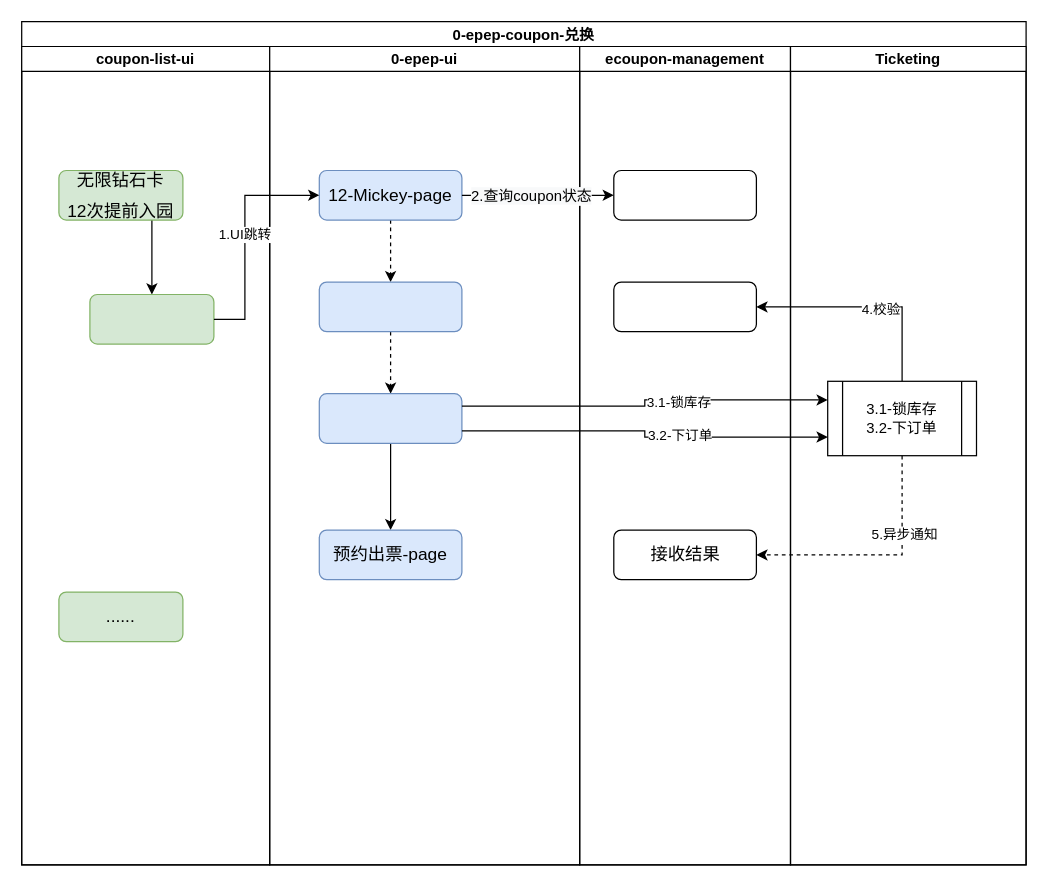
This 1048x887 diagram has some shape labels left out. The shapes that lost their labels are listed below. From the top down, each one's centre as x and y in pixels, then its label:
At pixel 684 194: "coupon-status".
At pixel 151 318: "优惠券详情 立即使用".
At pixel 390 306: "乐园早享福利 下一步".
At pixel 684 306: "coupon校验".
At pixel 390 417: "输入预约信息 立即预约".
